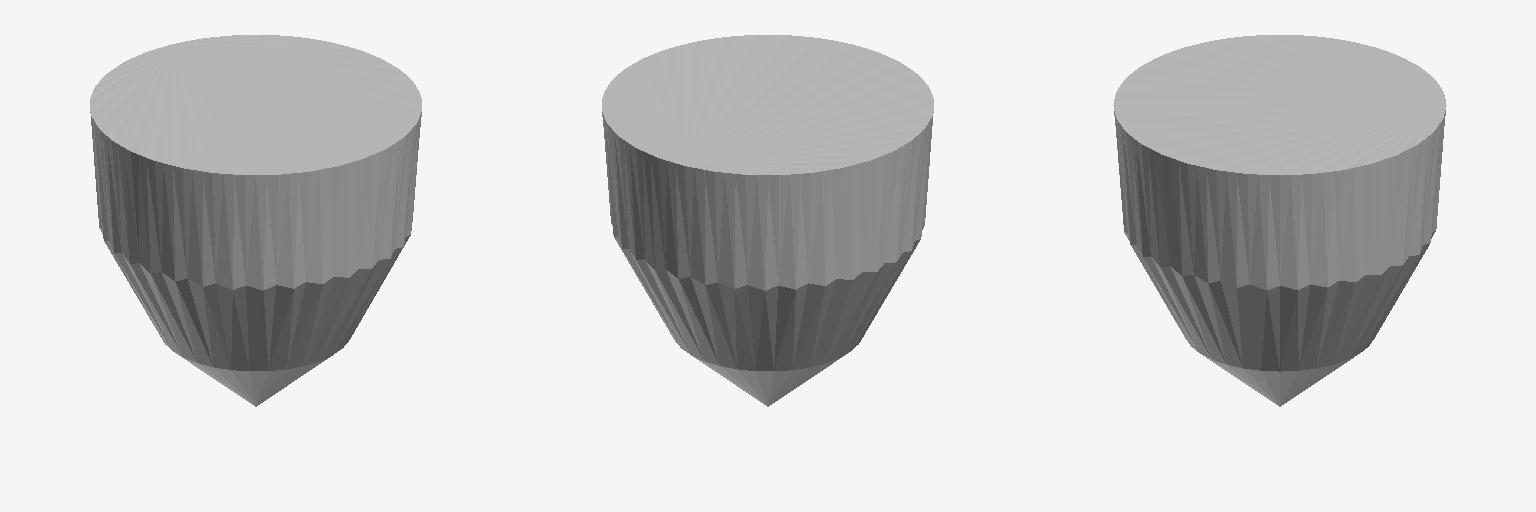
The model's file is Round Cone.obj.
3 renders of one model, left to right at view 1: azimuth 30°, elevation 25°; view 2: azimuth 150°, elevation 25°; view 3: azimuth 270°, elevation 25°, orthographic.
Visible parts, largest first — view 1: BulletonBillipher_Cone; view 2: BulletonBillipher_Cone; view 3: BulletonBillipher_Cone.
Part boxes in pixels (left/top/right/bottom): BulletonBillipher_Cone: left=90, top=35, right=421, bottom=406; BulletonBillipher_Cone: left=602, top=35, right=933, bottom=406; BulletonBillipher_Cone: left=1113, top=35, right=1446, bottom=406.
Bounding box in the file's own units: 1 × 1 × 1.